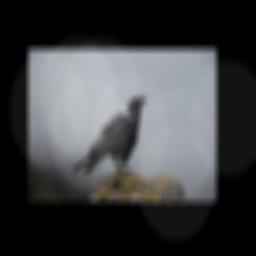Crow: (71, 93, 147, 177)
